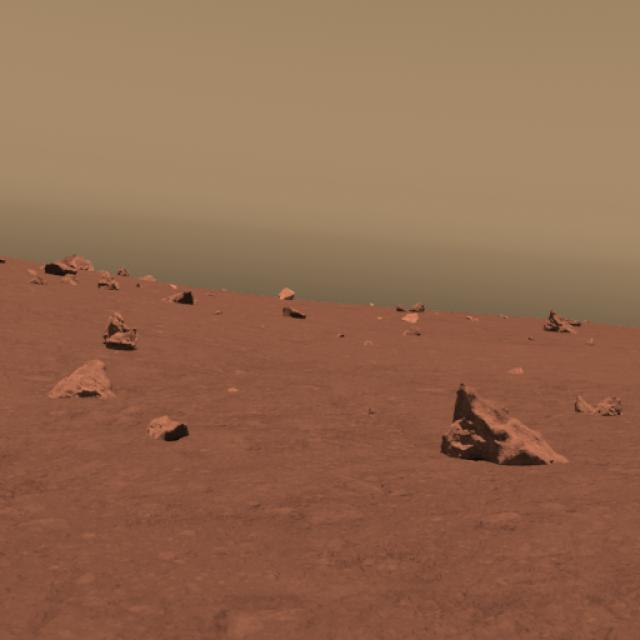rock: (438, 378, 569, 474), (46, 350, 112, 404)
